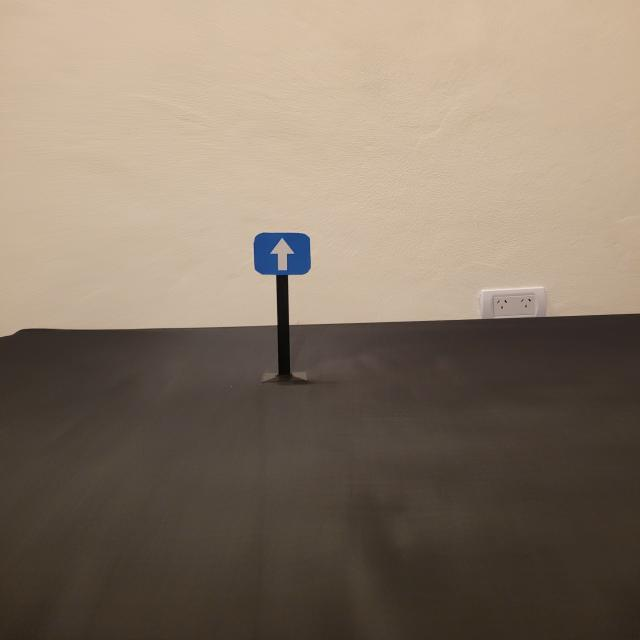one_way: (252, 231, 313, 276)
